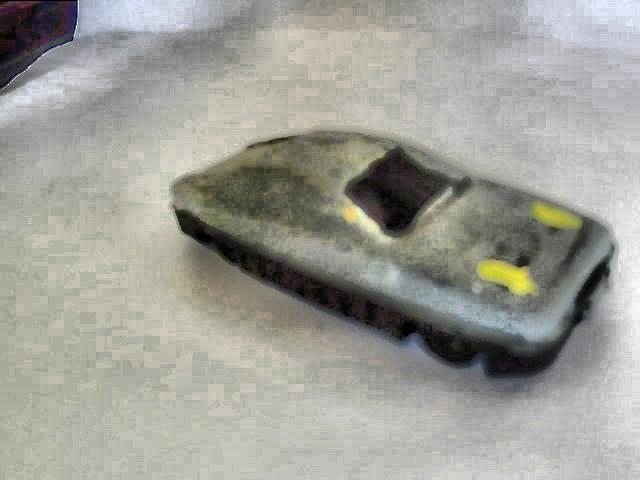normal_car: (164, 124, 621, 379)
